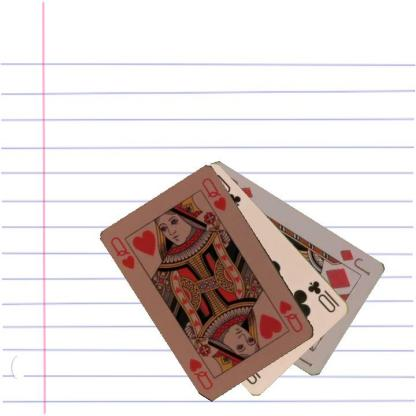10c: (305, 278, 342, 314)
Jd: (329, 245, 372, 277)
Qh: (108, 234, 137, 271), (277, 298, 304, 334)
